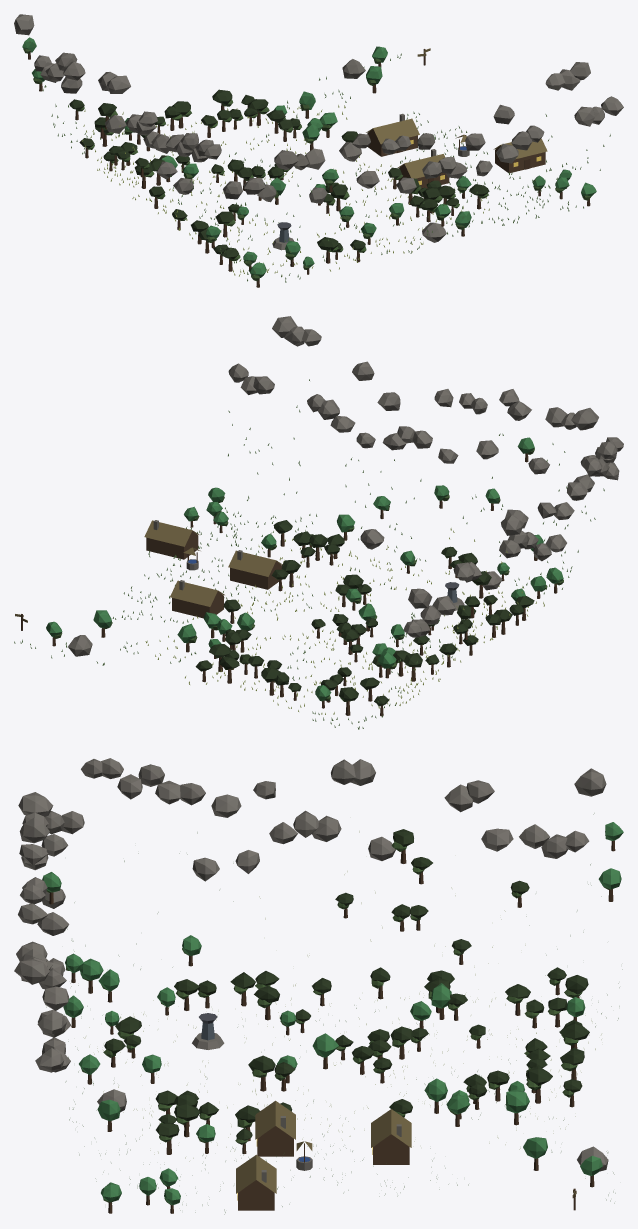
Rendered from scenery-2.glb.
The picture shows the model from 3 angles, top to bottom: view 1: azimuth 30°, elevation 25°; view 2: azimuth 150°, elevation 25°; view 3: azimuth 270°, elevation 25°; orthographic projection. The views are drawn at different scales.
Visible parts, largest first — view 1: Sector_1_7, Sector_0_5, Sector_2_7, Sector_0_6, Sector_0_7, Sector_3_7, Sector_2_6, Sector_0_4, Sector_2_4, Sector_3_6, Sector_1_5, Sector_1_4 (+4 smaller); view 2: Sector_2_6, Sector_1_7, Sector_2_7, Sector_0_6, Sector_0_4, Sector_0_5, Sector_3_7, Sector_3_6, Sector_0_7, Sector_1_5, Sector_2_4, Sector_1_4 (+4 smaller); view 3: Sector_0_6, Sector_0_5, Sector_0_4, Sector_2_6, Sector_0_7, Sector_1_7, Sector_3_6, Sector_1_5, Sector_2_4, Sector_3_7, Sector_2_7, Sector_1_4 (+4 smaller).
Boxes of the visible parts, x1,y1,x2,y2 form: Sector_1_7: (272, 133, 416, 279); Sector_0_5: (63, 61, 202, 230); Sector_2_7: (379, 104, 518, 253); Sector_0_6: (136, 111, 263, 272); Sector_0_7: (180, 133, 325, 287); Sector_3_7: (483, 62, 623, 225); Sector_2_6: (325, 149, 463, 226); Sector_0_4: (14, 14, 137, 182); Sector_2_4: (212, 89, 347, 150); Sector_3_6: (450, 134, 571, 209); Sector_1_5: (159, 155, 289, 219); Sector_1_4: (111, 101, 236, 172); Sector_2_6: (228, 531, 380, 611); Sector_1_7: (400, 389, 549, 597); Sector_2_7: (320, 361, 453, 571); Sector_0_6: (456, 474, 594, 642); Sector_0_4: (330, 562, 474, 729); Sector_0_5: (393, 509, 528, 691); Sector_3_7: (206, 316, 339, 541); Sector_3_6: (144, 506, 292, 576); Sector_0_7: (517, 407, 623, 606); Sector_1_5: (290, 603, 440, 681); Sector_2_4: (155, 623, 264, 684); Sector_1_4: (240, 656, 381, 721); Sector_0_6: (155, 780, 318, 1020); Sector_0_5: (312, 759, 472, 1013); Sector_0_4: (466, 768, 623, 1015); Sector_2_6: (155, 1055, 313, 1156); Sector_0_7: (18, 758, 164, 1018); Sector_1_7: (19, 844, 161, 1083); Sector_3_6: (156, 1122, 312, 1214); Sector_1_5: (312, 983, 467, 1084); Sector_2_4: (463, 1048, 584, 1144); Sector_3_7: (14, 949, 158, 1213); Sector_2_7: (16, 903, 159, 1144); Sector_1_4: (469, 997, 618, 1076).
Bounding box in the file's own units: 32.36 × 13.69 × 31.62.
Materials: 1 (1 with a texture image).
